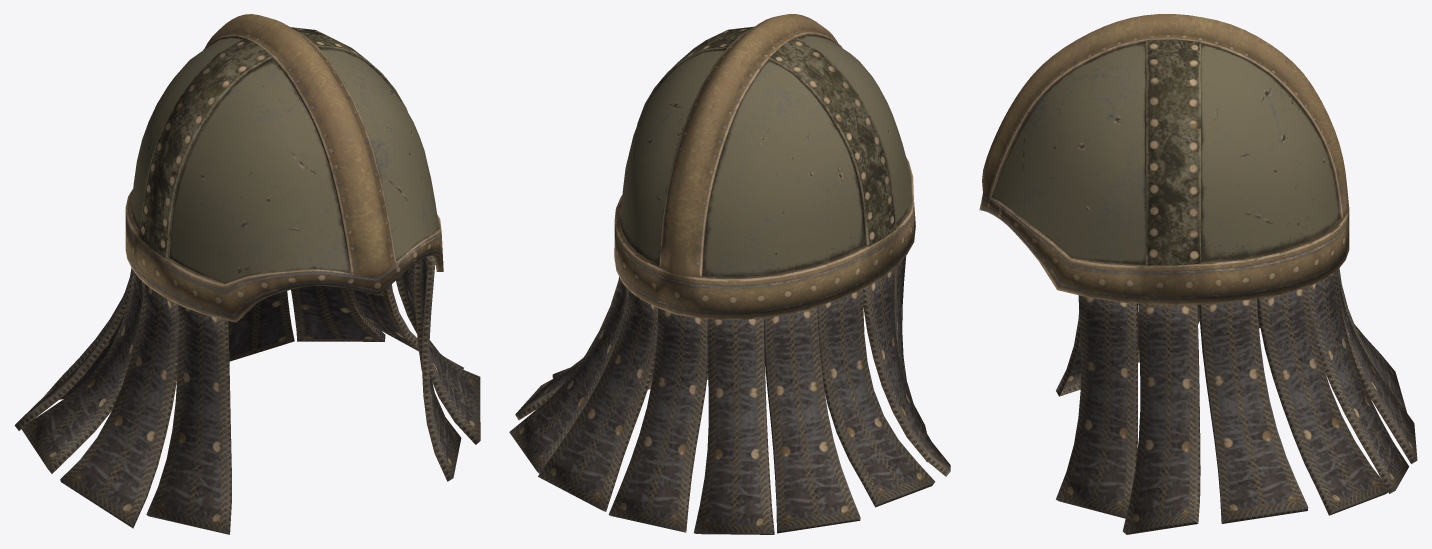
The model's file is dunland_wulf_helmet_medium_a.fbx.
The picture shows the model from 3 angles, left to right: view 1: azimuth 30°, elevation 25°; view 2: azimuth 150°, elevation 25°; view 3: azimuth 270°, elevation 25°; orthographic projection. The views are drawn at different scales.
Parts seen in each view (by area): view 1: dunland_wulf_helmet_medium_a; view 2: dunland_wulf_helmet_medium_a; view 3: dunland_wulf_helmet_medium_a.
Part boxes in pixels (left/top/right/bottom): dunland_wulf_helmet_medium_a: left=14, top=14, right=480, bottom=534; dunland_wulf_helmet_medium_a: left=509, top=14, right=950, bottom=534; dunland_wulf_helmet_medium_a: left=979, top=14, right=1417, bottom=534.
Size of the model in its own units: 0.3247 by 0.2973 by 0.3284.
1 material, 1 textured.
